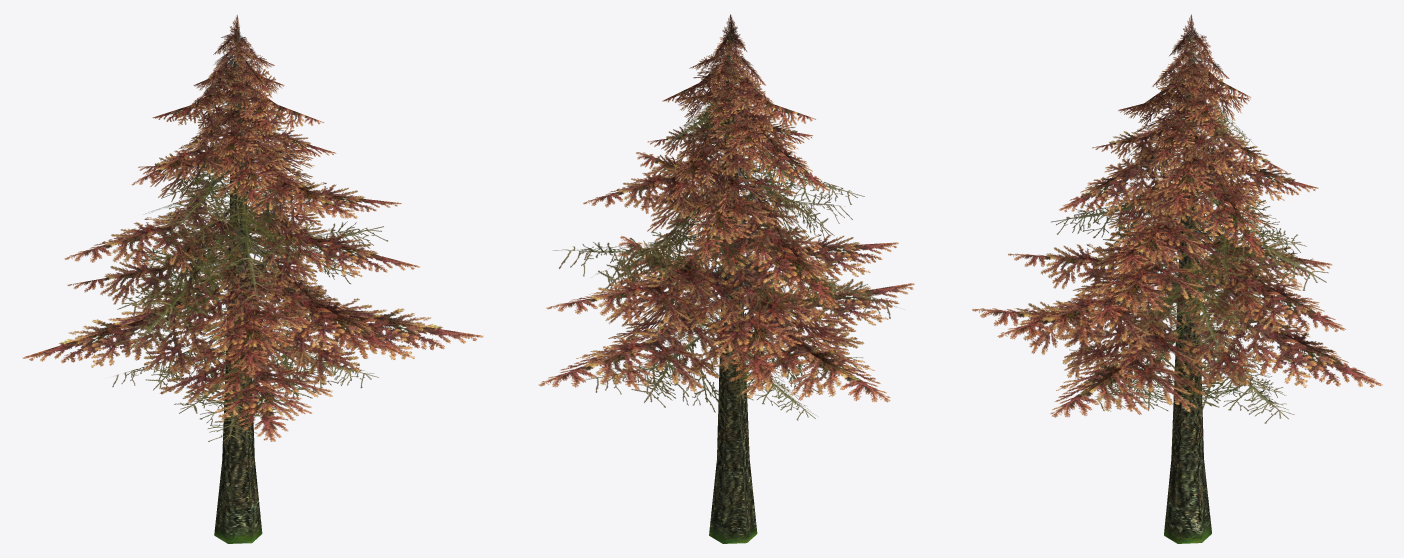
File: tree4_11s.glb
The picture shows the model from 3 angles, left to right: view 1: azimuth 30°, elevation 25°; view 2: azimuth 150°, elevation 25°; view 3: azimuth 270°, elevation 25°; orthographic projection.
Visible parts, largest first — view 1: tree4_11s-col; view 2: tree4_11s-col; view 3: tree4_11s-col.
Part boxes in pixels (x1=…): tree4_11s-col: x1=22, y1=14, x2=483, y2=543; tree4_11s-col: x1=539, y1=14, x2=914, y2=543; tree4_11s-col: x1=972, y1=14, x2=1382, y2=543.
Size of the model in its own units: 9.74 by 12.6 by 9.32.
3 materials, 3 textured.
